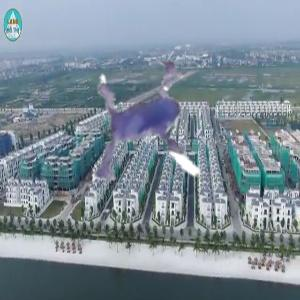drone: (52, 37, 271, 256)
